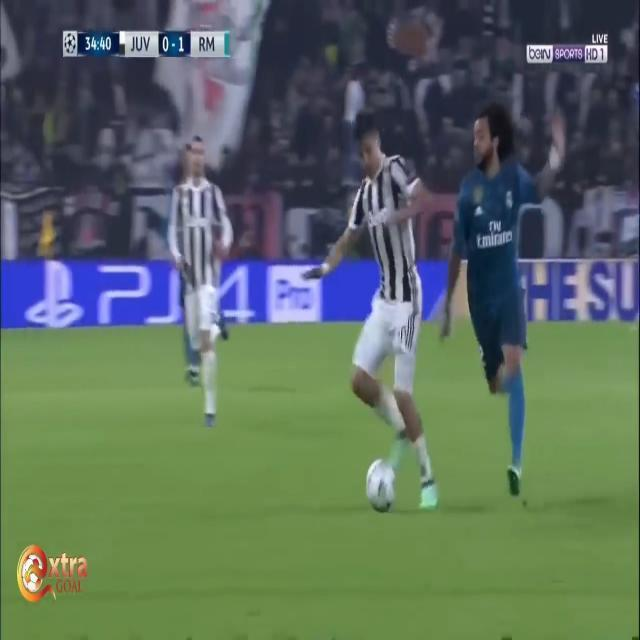ball: (359, 443, 397, 530)
player: (330, 94, 450, 526), (430, 87, 551, 515), (151, 125, 258, 430)
